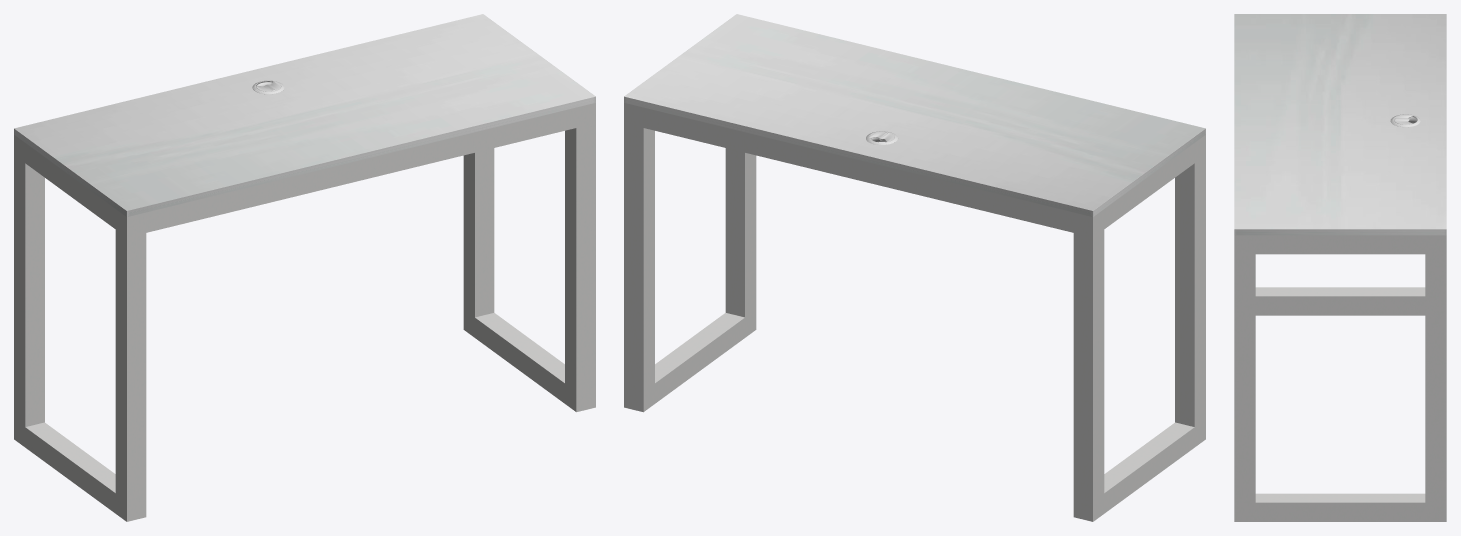
Rendered from 004_Escritorio.glb.
3 renders of one model, left to right at view 1: azimuth 30°, elevation 25°; view 2: azimuth 150°, elevation 25°; view 3: azimuth 270°, elevation 25°, orthographic. The views are drawn at different scales.
Parts seen in each view (by area): view 1: root; view 2: root; view 3: root.
Part boxes in pixels (x1,y1,x2,y2): root: (14,14,595,521); root: (624,14,1205,521); root: (1234,14,1446,521).
Bounding box in the file's own units: 1.2 × 0.7638 × 0.5.
Materials: 3 (2 with a texture image).
